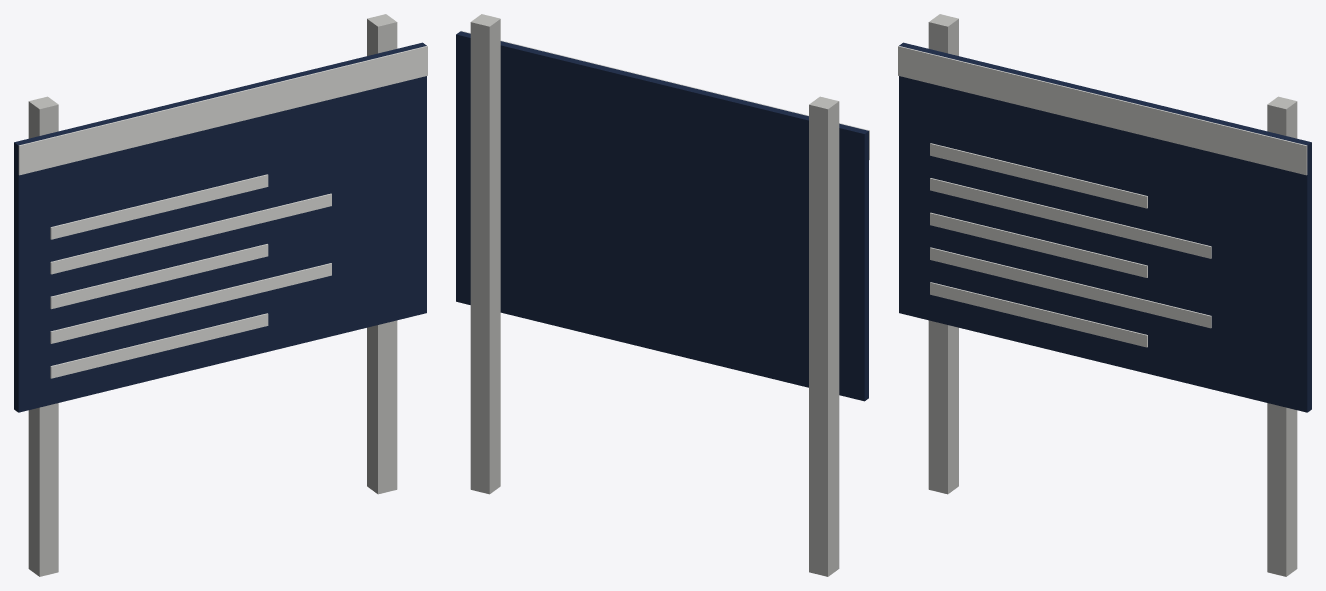
File: street.traffic.estate_board.glb
3 renders of one model, left to right at view 1: azimuth 30°, elevation 25°; view 2: azimuth 150°, elevation 25°; view 3: azimuth 330°, elevation 25°, orthographic.
Visible parts, largest first — view 1: main__paint_234, main__paint_ddd, main__paint_ccc; view 2: main__paint_234, main__paint_ccc; view 3: main__paint_234, main__paint_ddd, main__paint_ccc.
Part boxes in pixels (x1,y1,x2,y2): main__paint_234: [14, 42, 426, 412]; main__paint_ddd: [18, 46, 427, 378]; main__paint_ccc: [28, 14, 397, 576]; main__paint_234: [456, 31, 868, 401]; main__paint_ccc: [470, 14, 839, 576]; main__paint_234: [899, 42, 1311, 412]; main__paint_ddd: [898, 46, 1307, 347]; main__paint_ccc: [928, 14, 1297, 576].
Size of the model in its own units: 3.2 by 3.5 by 0.22.
